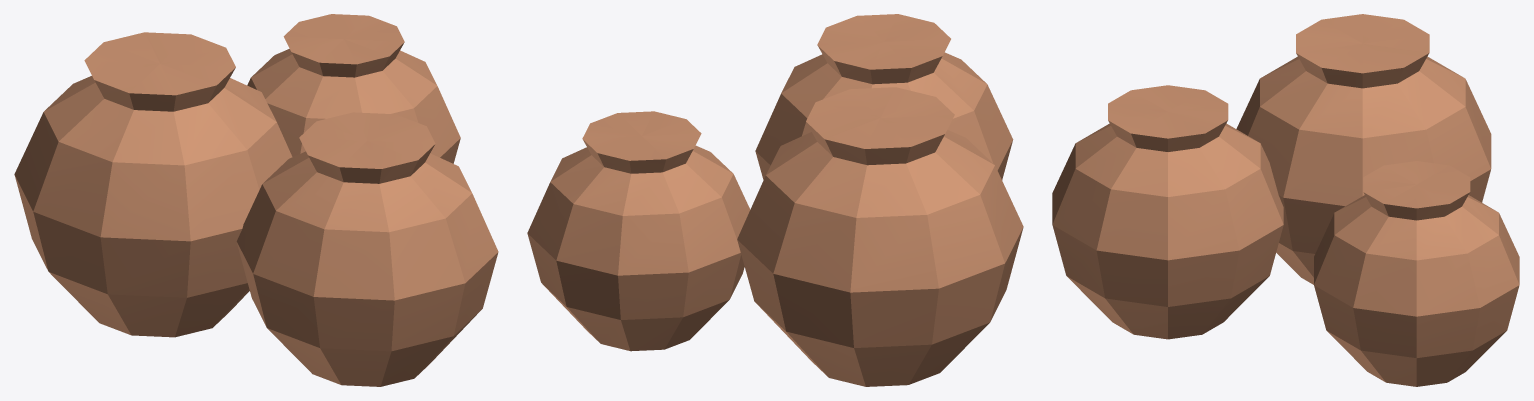
Rendered from clay_pots.glb.
3 views of the same model, side by side, from view 1: azimuth 30°, elevation 25°; view 2: azimuth 150°, elevation 25°; view 3: azimuth 270°, elevation 25° (orthographic). The views are drawn at different scales.
Parts seen in each view (by area): view 1: clay_pots; view 2: clay_pots; view 3: clay_pots.
Part boxes in pixels (x1=…): clay_pots: x1=14, y1=14, x2=498, y2=386; clay_pots: x1=527, y1=14, x2=1023, y2=386; clay_pots: x1=1052, y1=14, x2=1519, y2=386.
Bounding box in the file's own units: 0.87 × 0.46 × 0.8642.
